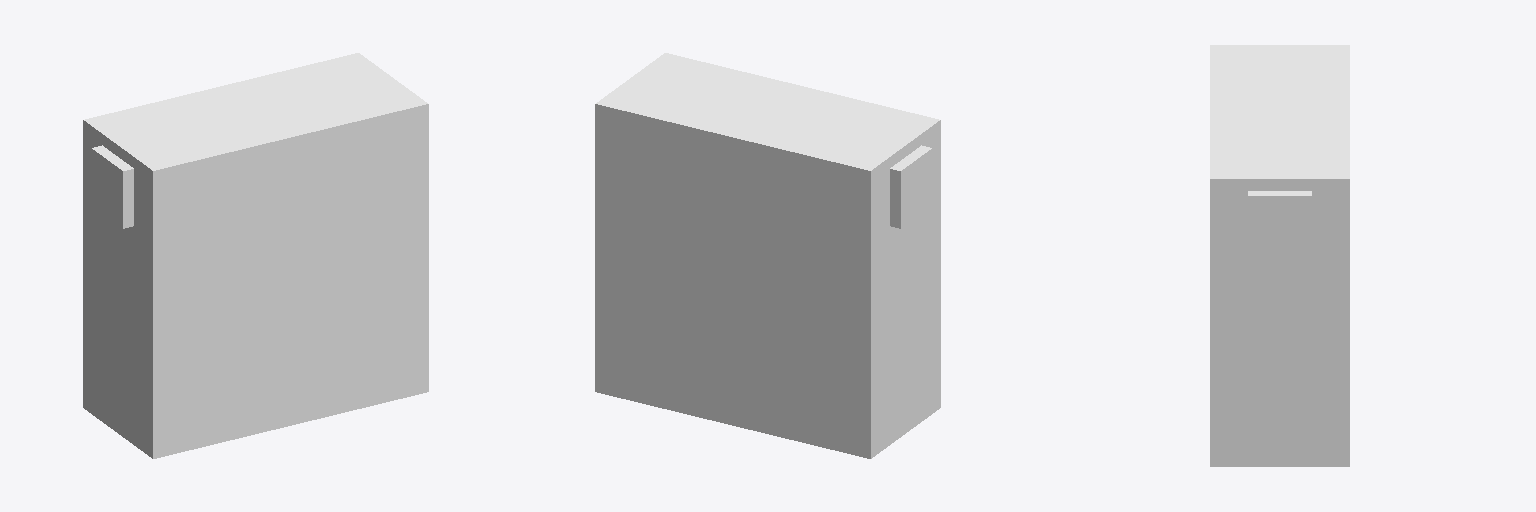
Rendered from robot_body.obj.
3 views of the same model, side by side, from view 1: azimuth 30°, elevation 25°; view 2: azimuth 150°, elevation 25°; view 3: azimuth 270°, elevation 25° (orthographic).
Parts seen in each view (by area): view 1: object 1; view 2: object 1; view 3: object 1.
Part boxes in pixels (bbox=[...]): object 1: bbox=[83, 53, 428, 458]; object 1: bbox=[595, 53, 940, 458]; object 1: bbox=[1210, 45, 1349, 466].
Bounding box in the file's own units: 2.7 × 2.5 × 1.1.